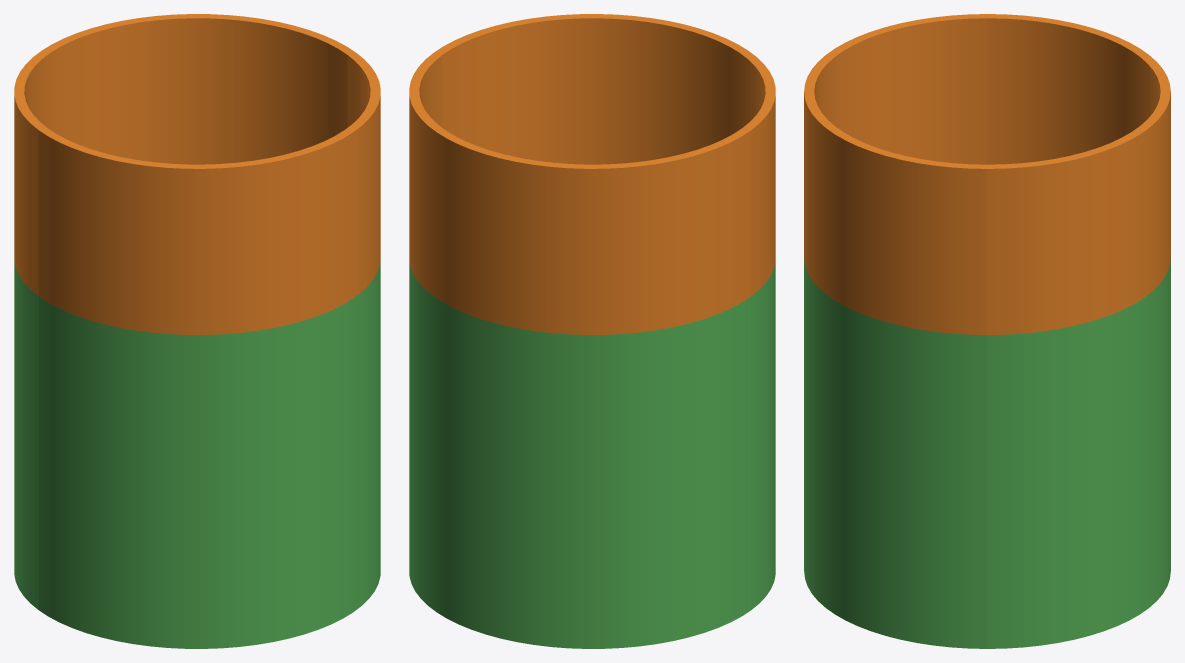
File: sand_trap_pressure.glb
The picture shows the model from 3 angles, left to right: view 1: azimuth 30°, elevation 25°; view 2: azimuth 150°, elevation 25°; view 3: azimuth 270°, elevation 25°; orthographic projection.
Visible parts, largest first — view 1: pressure__front, pressure__back; view 2: pressure__back, pressure__front; view 3: pressure__back, pressure__front.
Part boxes in pixels (box(x1,y1,x2,y2)): pressure__front: box(38, 53, 380, 648); pressure__back: box(14, 14, 355, 609); pressure__back: box(409, 53, 751, 648); pressure__front: box(434, 14, 775, 609); pressure__back: box(987, 14, 1170, 648); pressure__front: box(804, 14, 987, 648).
Bounding box in the file's own units: 0.9 × 1.3 × 0.9.
